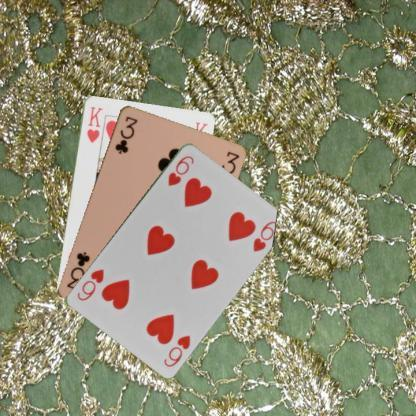3c: (112, 113, 139, 155)
6h: (160, 332, 192, 368), (166, 152, 196, 188)
Kh: (84, 103, 104, 144)
